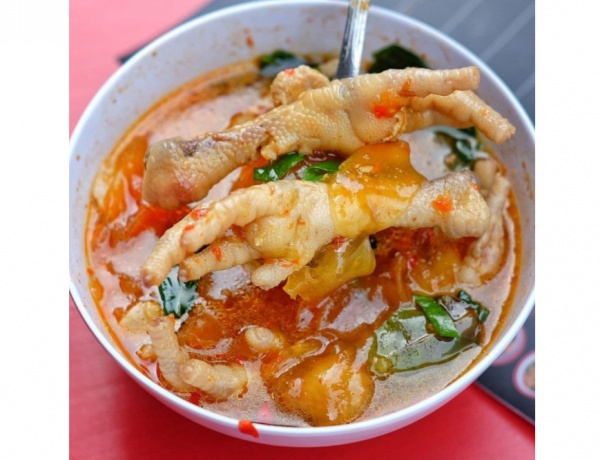seblak: (84, 62, 523, 427)
